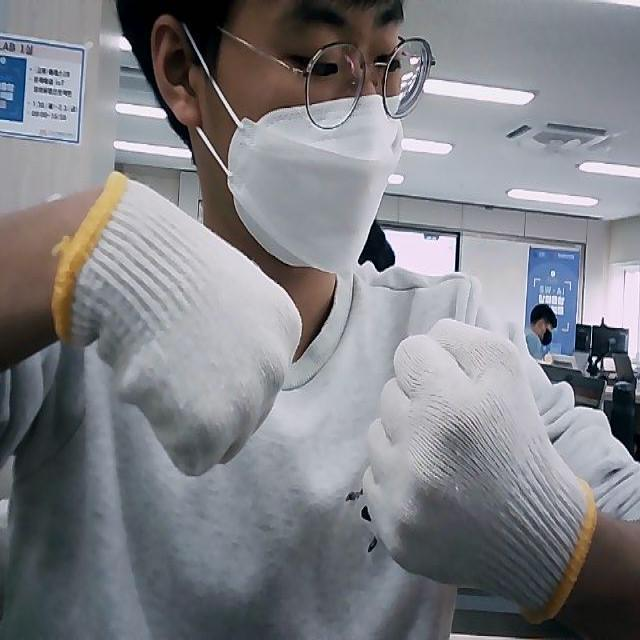gloves: (52, 173, 302, 477), (360, 312, 594, 624)
